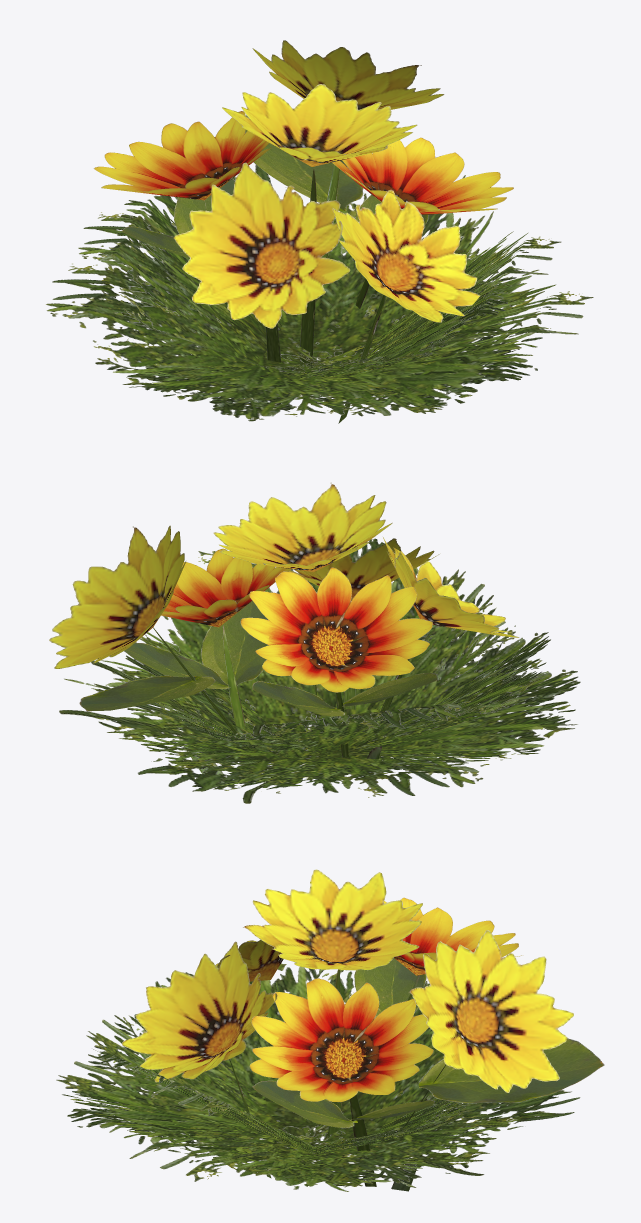
The model's file is PW_Flower_Cluster_02.fbx.
3 views of the same model, one above another, from view 1: azimuth 30°, elevation 25°; view 2: azimuth 150°, elevation 25°; view 3: azimuth 270°, elevation 25° (orthographic). The views are drawn at different scales.
Visible parts, largest first — view 1: PW_Flower_Cluster_02_LOD0; view 2: PW_Flower_Cluster_02_LOD0; view 3: PW_Flower_Cluster_02_LOD0.
Boxes of the visible parts, x1,y1,x2,y2 form: PW_Flower_Cluster_02_LOD0: (46,40,593,423); PW_Flower_Cluster_02_LOD0: (49,482,580,803); PW_Flower_Cluster_02_LOD0: (56,869,604,1191).
Size of what is drawn, in the model's own units: 75.46 by 43.59 by 77.19.
Materials: 1 (1 with a texture image).
